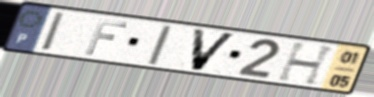2: (234, 38, 285, 80)
F: (82, 17, 132, 57)
H: (275, 41, 340, 87)
I: (145, 24, 175, 67), (39, 10, 68, 53)
V: (189, 27, 240, 73)
